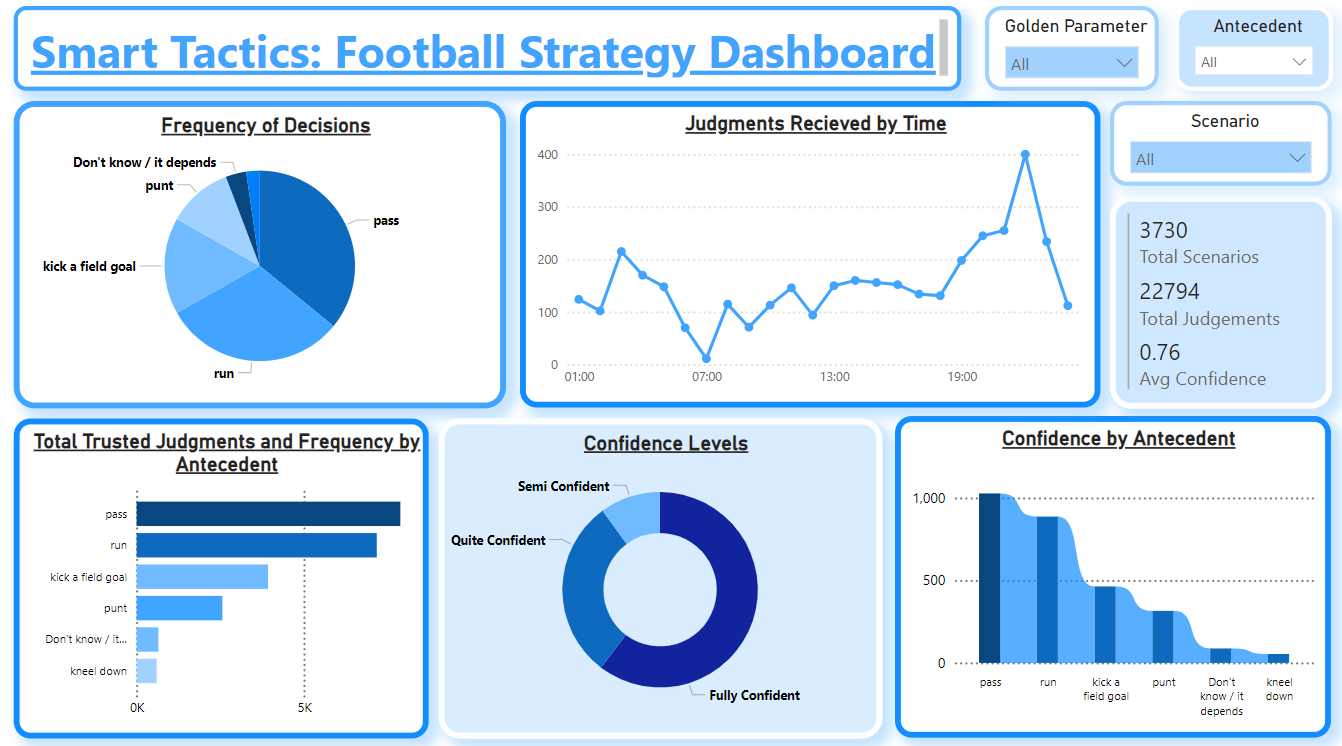

This screenshot's page, from the dashboard's own definition file:
{"tool":"powerbi","page":{"name":"Page 1","canvas":[1280,720],"ordinal":0},"visuals":[{"type":"ribbonChart","title":"Confidence by Antecedent","fields":{"Category":["Football-Scenarios-DFE-832307.antecedent"],"Y":["Sum(Football-Scenarios-DFE-832307.antecedent:confidence)"]},"box":[851.8,405.4,415.3,306.1],"z":0},{"type":"pieChart","title":"Frequency of Decisions","fields":{"Category":["Football-Scenarios-DFE-832307.antecedent"],"Y":["CountNonNull(Football-Scenarios-DFE-832307.antecedent)"]},"box":[13.1,104.8,469.1,292.9],"z":1000},{"type":"clusteredBarChart","title":"Total Trusted Judgments and Frequency by Antecedent","fields":{"Category":["Football-Scenarios-DFE-832307.antecedent"],"Y":["Sum(Football-Scenarios-DFE-832307._trusted_judgments)"]},"box":[12.8,406.8,395,304.7],"z":2000},{"type":"lineChart","title":"Judgments Recieved by Time","fields":{"Y":["CountNonNull(Football-Scenarios-DFE-832307._trusted_judgments)"],"Category":["Football-Scenarios-DFE-832307._last_judgment_at - Copy"]},"box":[494.6,104.9,552.8,292],"z":3000},{"type":"donutChart","title":"Confidence Levels","fields":{"Category":["Football-Scenarios-DFE-832307.Confidence Level"],"Y":["CountNonNull(Football-Scenarios-DFE-832307._unit_id)"]},"box":[418.1,406.8,422,305],"z":4000},{"type":"textbox","box":[13.1,14.3,908.3,81],"z":5000},{"type":"multiRowCard","title":"Total Scenarios","fields":{"Values":["CountNonNull(Football-Scenarios-DFE-832307._unit_id)","Sum(Football-Scenarios-DFE-832307._trusted_judgments)","Avg(Football-Scenarios-DFE-832307.antecedent:confidence)"]},"box":[1057.3,195.6,211.2,202.7],"z":6000},{"type":"slicer","title":"Antecedent","fields":{"Values":["Football-Scenarios-DFE-832307.antecedent"]},"box":[1111.9,14.3,156,81],"z":9000},{"type":"slicer","title":"Scenario","fields":{"Values":["Football-Scenarios-DFE-832307.orig_antecedent"]},"box":[1057.3,104.9,211.2,80.8],"z":10000},{"type":"slicer","title":"Golden Parameter","fields":{"Values":["Football-Scenarios-DFE-832307._golden"]},"box":[938.1,14.3,165.5,81],"z":11000}]}

Visuals, with their boxes in screenshot pixels (x1, y1, x2, y2), scaled from the page's 1280x720 canvas onto the 1342x746 screenshot:
"Confidence by Antecedent" ribbonChart: (x1=893, y1=420, x2=1328, y2=737)
"Frequency of Decisions" pieChart: (x1=14, y1=109, x2=506, y2=412)
"Total Trusted Judgments and Frequency by Antecedent" clusteredBarChart: (x1=13, y1=421, x2=428, y2=737)
"Judgments Recieved by Time" lineChart: (x1=519, y1=109, x2=1098, y2=411)
"Confidence Levels" donutChart: (x1=438, y1=421, x2=881, y2=738)
textbox: (x1=14, y1=15, x2=966, y2=99)
"Total Scenarios" multiRowCard: (x1=1109, y1=203, x2=1330, y2=413)
"Antecedent" slicer: (x1=1166, y1=15, x2=1329, y2=99)
"Scenario" slicer: (x1=1109, y1=109, x2=1330, y2=192)
"Golden Parameter" slicer: (x1=984, y1=15, x2=1157, y2=99)
